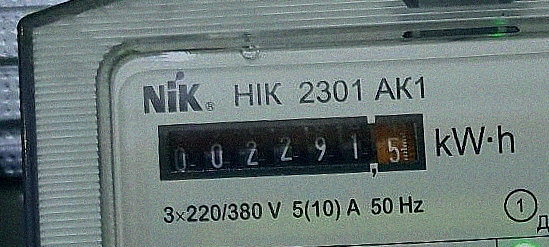0: (169, 142, 189, 172), (207, 139, 225, 169)
1: (345, 128, 362, 163)
2: (242, 137, 260, 167), (277, 132, 293, 162)
5: (384, 132, 402, 164)
9: (311, 132, 329, 163)
screen: (150, 100, 432, 195)
